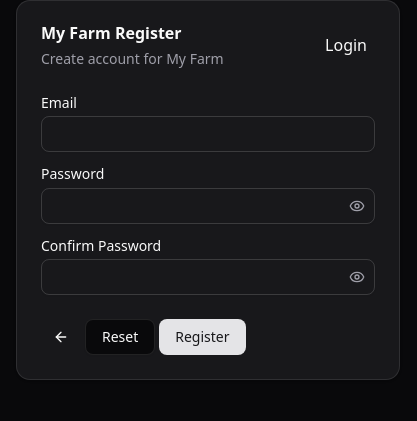
Test case: Reg Form Tests › check password error
Step 1. Type "x" into the password field labelled "Password" → (194, 206), box left=42, top=188, right=345, bottom=224
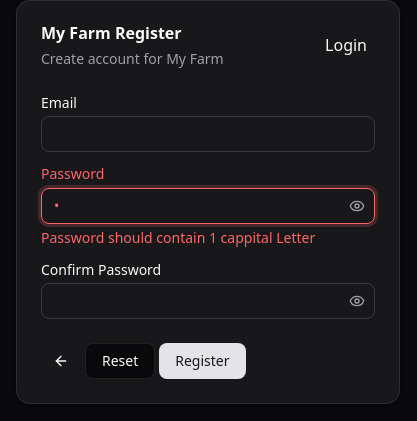
Now the text "Password should contain 1 cappital Letter" is shown, box left=41, top=228, right=315, bottom=246
Step 2. Type "T" into the password field labelled "Password" → (194, 206), box left=42, top=188, right=345, bottom=224
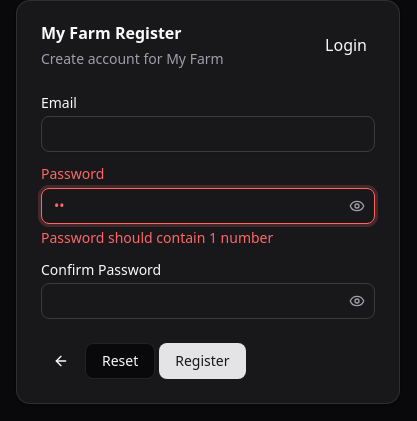
Now the text "Password should contain 1 cappital Letter" is gone
Now the text "Password should contain 1 number" is shown, box left=41, top=228, right=273, bottom=246
Step 3. Type "Test1" into the password field labelled "Password" → (194, 206), box left=42, top=188, right=345, bottom=224
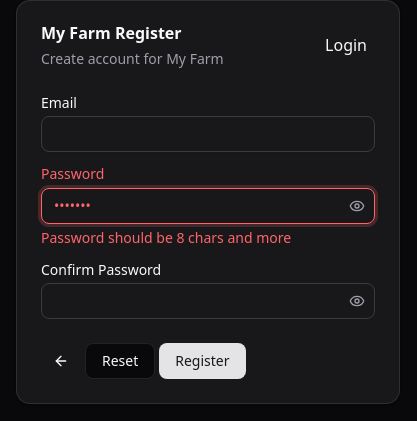
Expected: the text "Password should contain 1 cappital Letter" is not shown
Now the text "Password should contain 1 number" is gone
Now the text "Password should be 8 chars and more" is shown, box left=41, top=228, right=291, bottom=246
Step 4. Type "Test1test" into the password field labelled "Password" → (194, 206), box left=42, top=188, right=345, bottom=224
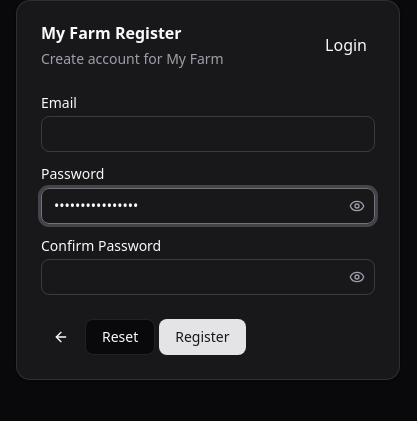
Expected: the text "Password should contain 1 cappital Letter" is not shown
Now the text "Password should be 8 chars and more" is gone
